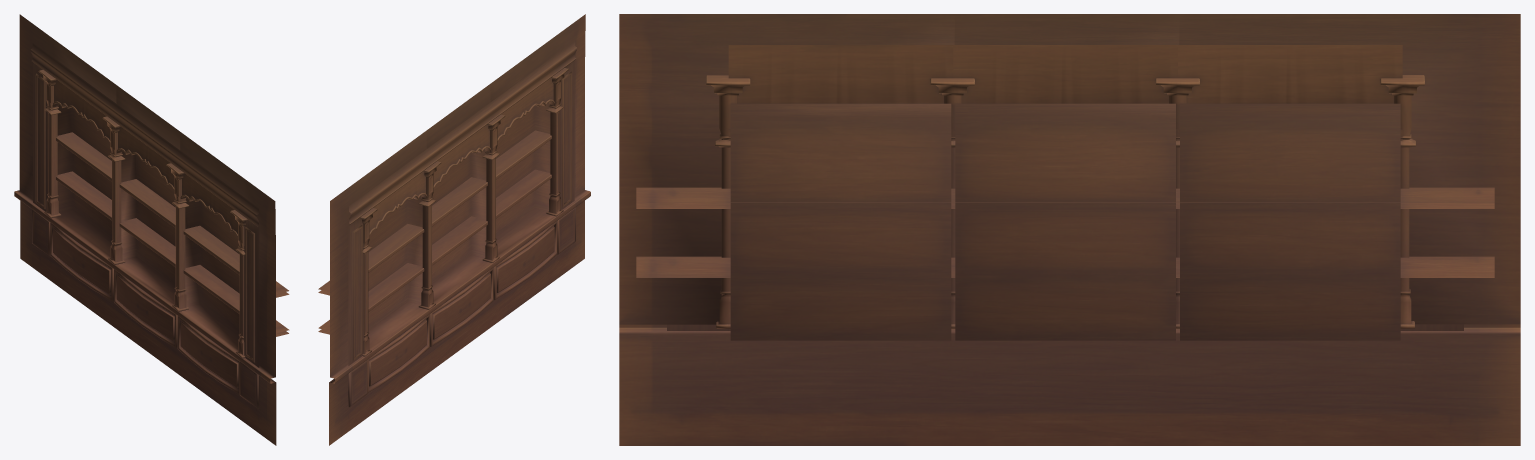
The model's file is BoardCafeA_Shelves.fbx.
The picture shows the model from 3 angles, left to right: view 1: azimuth 30°, elevation 25°; view 2: azimuth 150°, elevation 25°; view 3: azimuth 270°, elevation 25°; orthographic projection. The views are drawn at different scales.
Visible parts, largest first — view 1: BoardCafeA_Shelves; view 2: BoardCafeA_Shelves; view 3: BoardCafeA_Shelves.
Part boxes in pixels (x1,y1,x2,y2): BoardCafeA_Shelves: (14, 14, 289, 445); BoardCafeA_Shelves: (318, 14, 590, 445); BoardCafeA_Shelves: (619, 14, 1520, 445).
Bounding box in the file's own units: 36.62 × 316 × 599.
